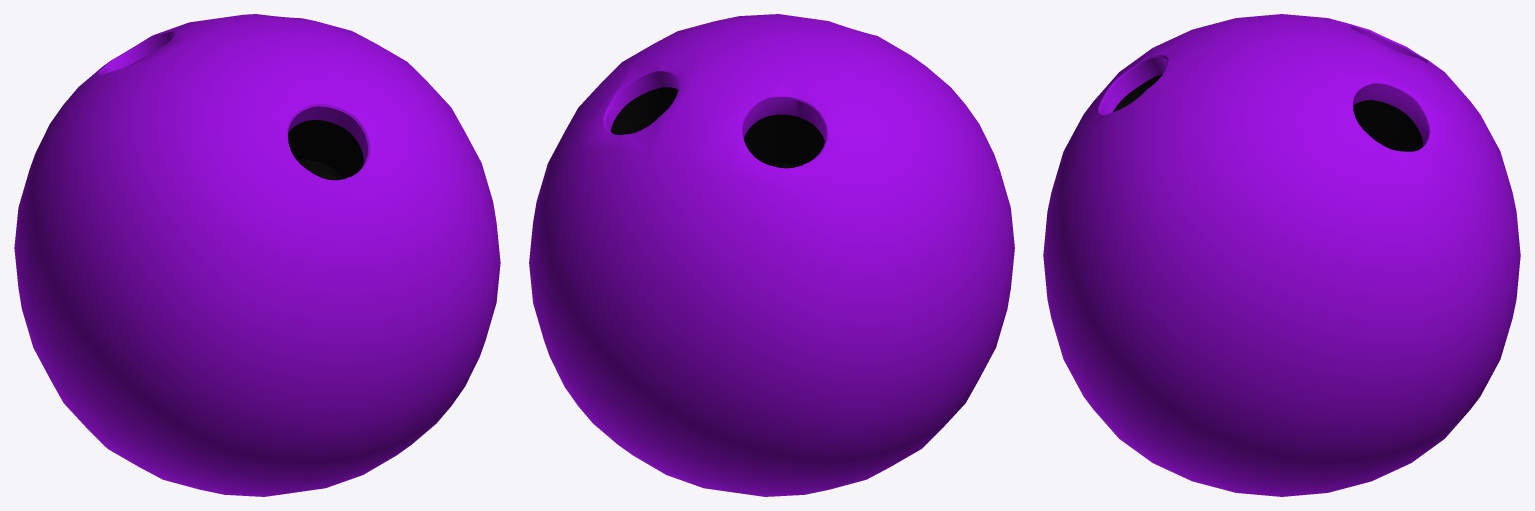
Rendered from BoulingP.fbx.
3 renders of one model, left to right at view 1: azimuth 30°, elevation 25°; view 2: azimuth 150°, elevation 25°; view 3: azimuth 270°, elevation 25°, orthographic.
Visible parts, largest first — view 1: Cube.010; view 2: Cube.010; view 3: Cube.010.
Part boxes in pixels (left/top/right/bottom): Cube.010: left=14, top=14, right=500, bottom=496; Cube.010: left=529, top=14, right=1014, bottom=496; Cube.010: left=1043, top=14, right=1520, bottom=496.
Size of the model in its own units: 159 by 159 by 159.
